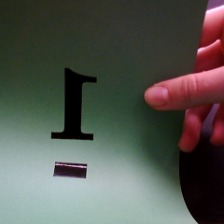green1: (40, 60, 108, 185)
